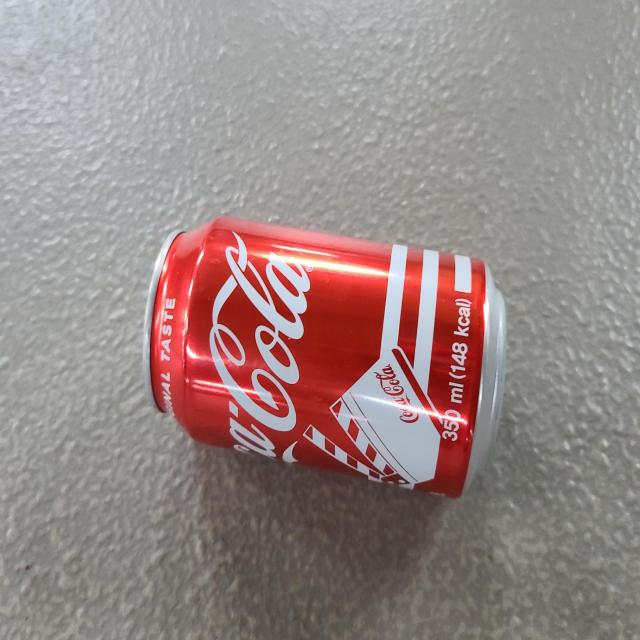can: (144, 217, 506, 498)
